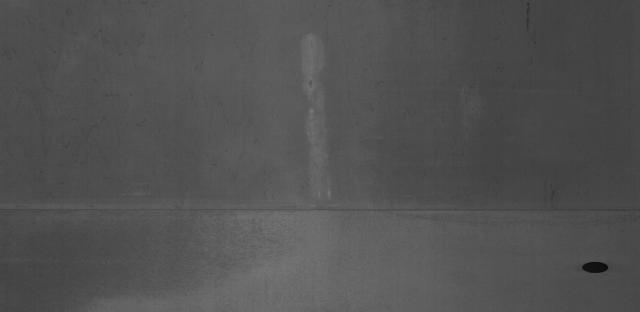punching_hole: (579, 258, 612, 278)
welding_line: (2, 197, 637, 224)
